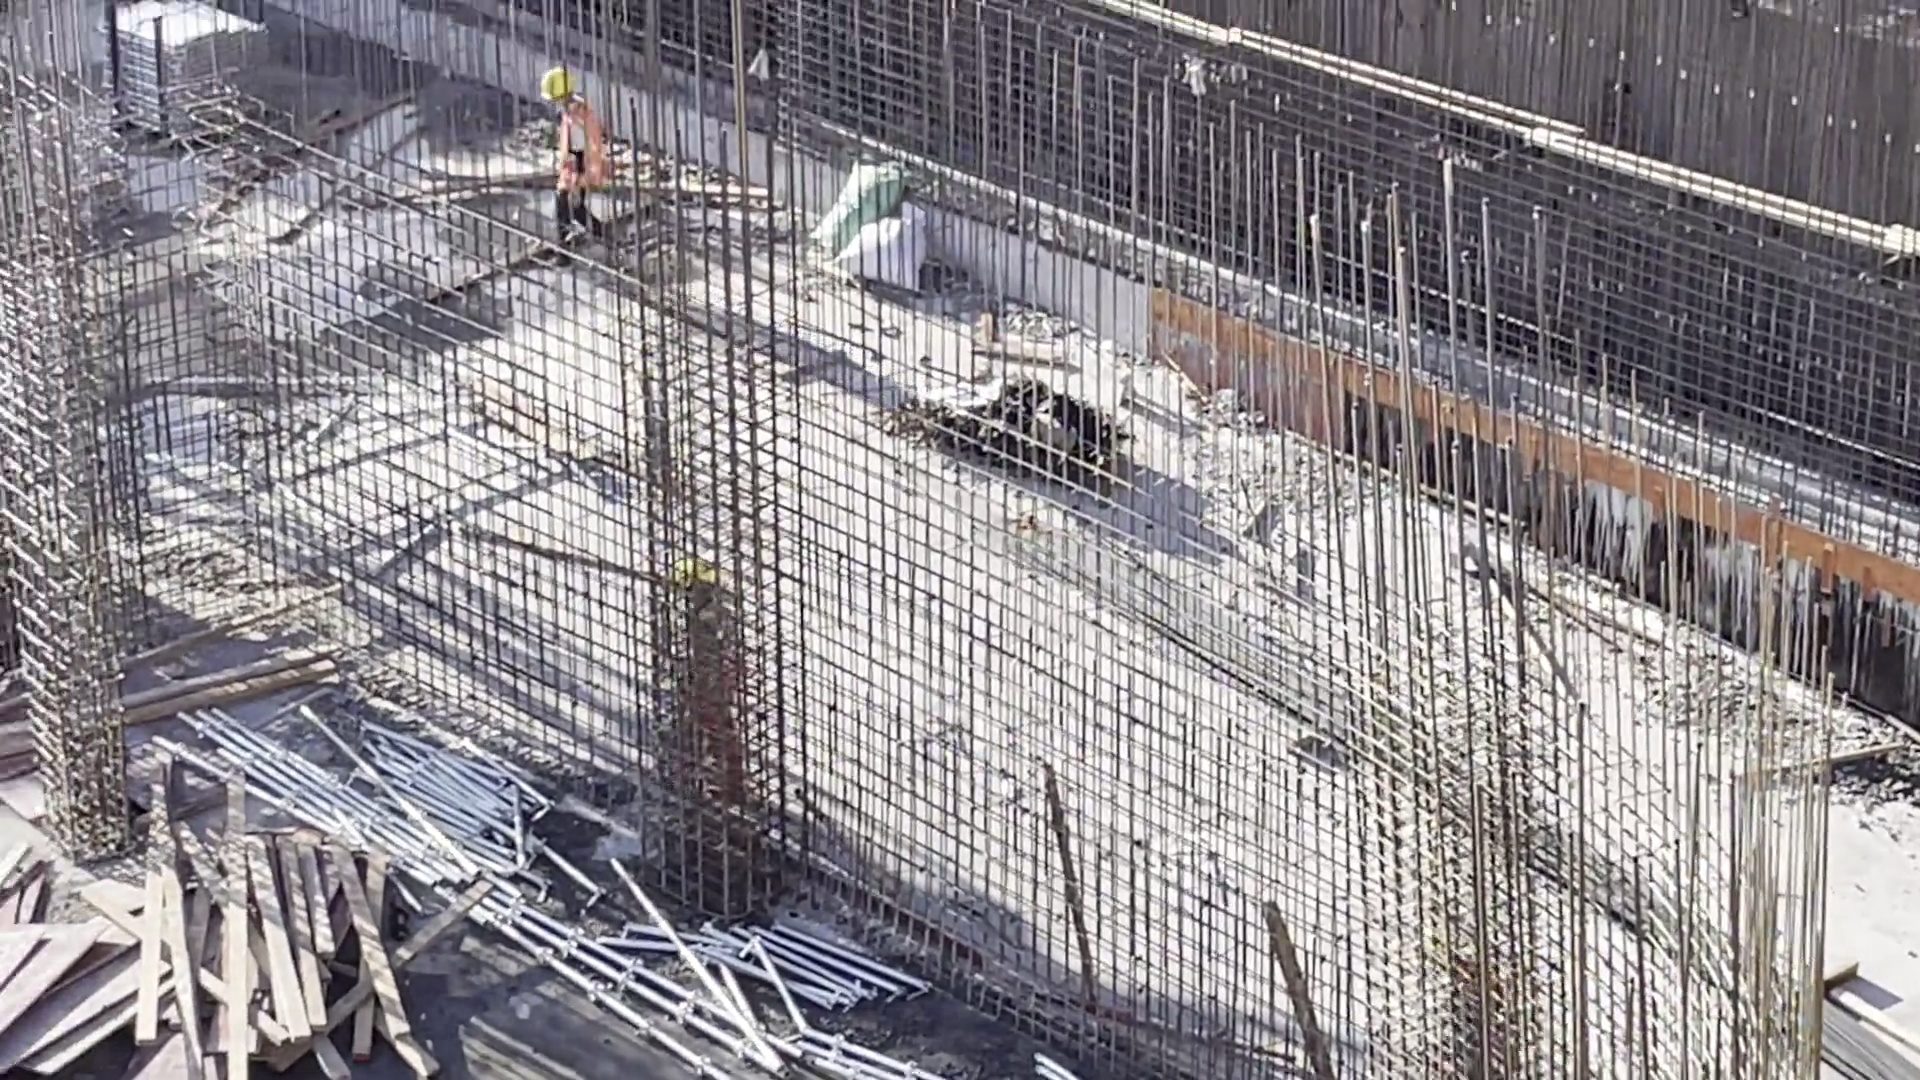helmet: (673, 548, 729, 583), (537, 69, 581, 101)
person: (643, 542, 762, 808), (530, 38, 621, 245)
rebar: (1806, 998, 1919, 1080)
scaffold: (237, 705, 557, 914), (634, 922, 913, 1076), (96, 1, 272, 159)
vest: (544, 101, 608, 191)
wood: (130, 817, 425, 1065)
